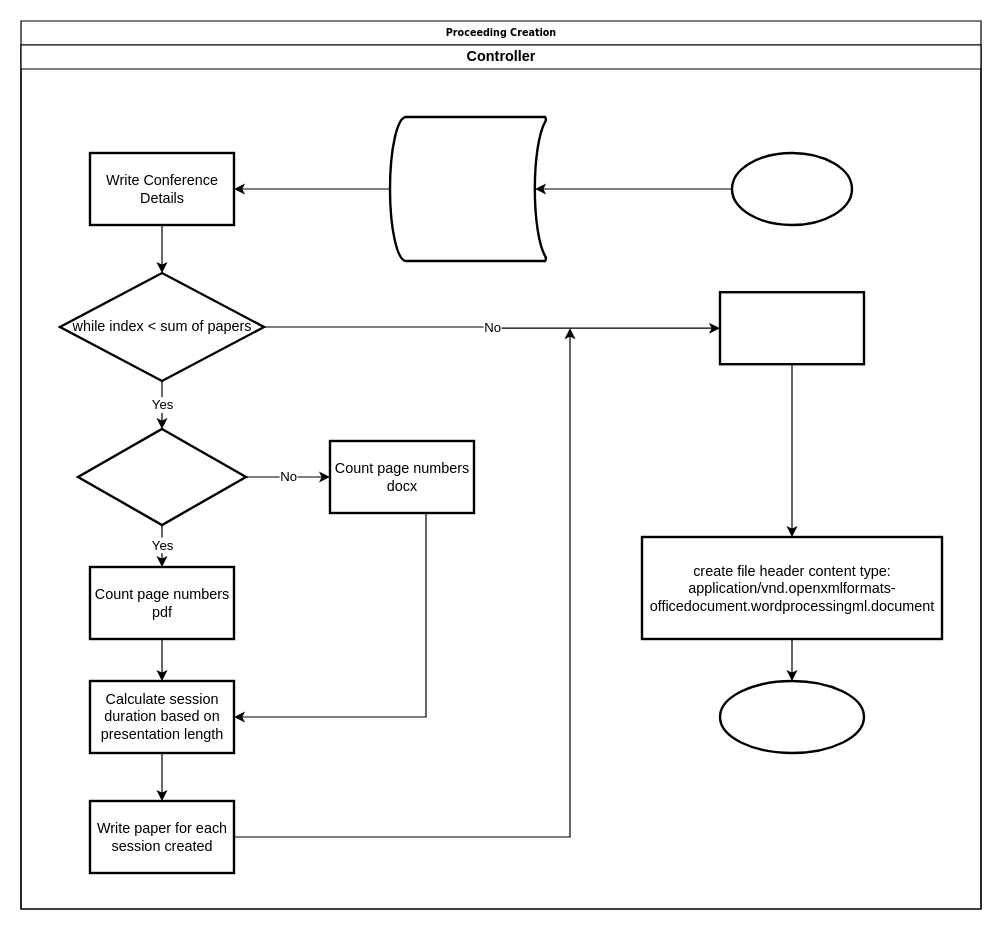
Some shapes in this 1002 by 930 pixel diagram are drawn without their labels. Here are the shapes that lost their labels. From the top down, the centre of each, then its label:
At point 467,188: "Conference Session, Accepted Papers, Conference Managers, Conference Details".
At point 791,188: "start".
At point 791,327: "Commit Writer with Word2007 phpWord library".
At point 161,476: "is paper has PDF extension?".
At point 791,716: "save and finish".
